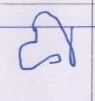i_matra: (41, 10, 78, 66)
